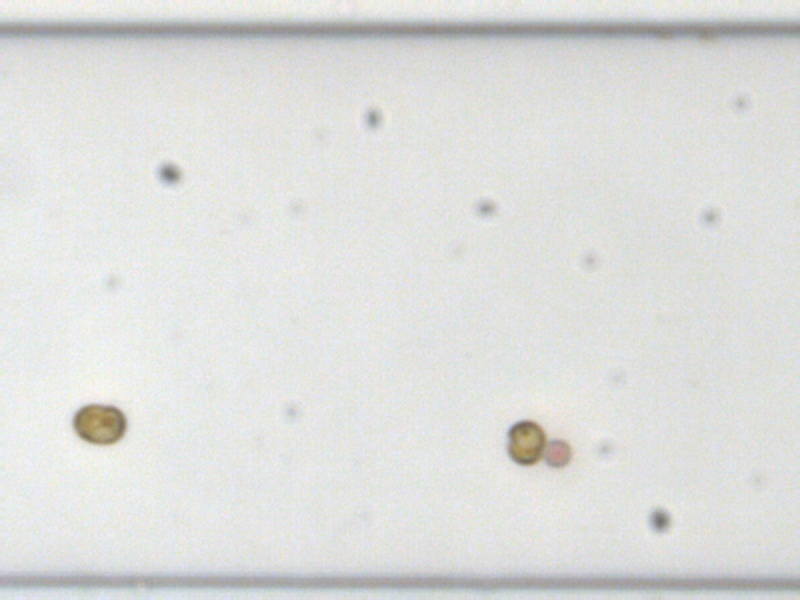Effrenium: (70, 401, 127, 446), (504, 416, 547, 467)
Porphyridium: (542, 436, 572, 467)
